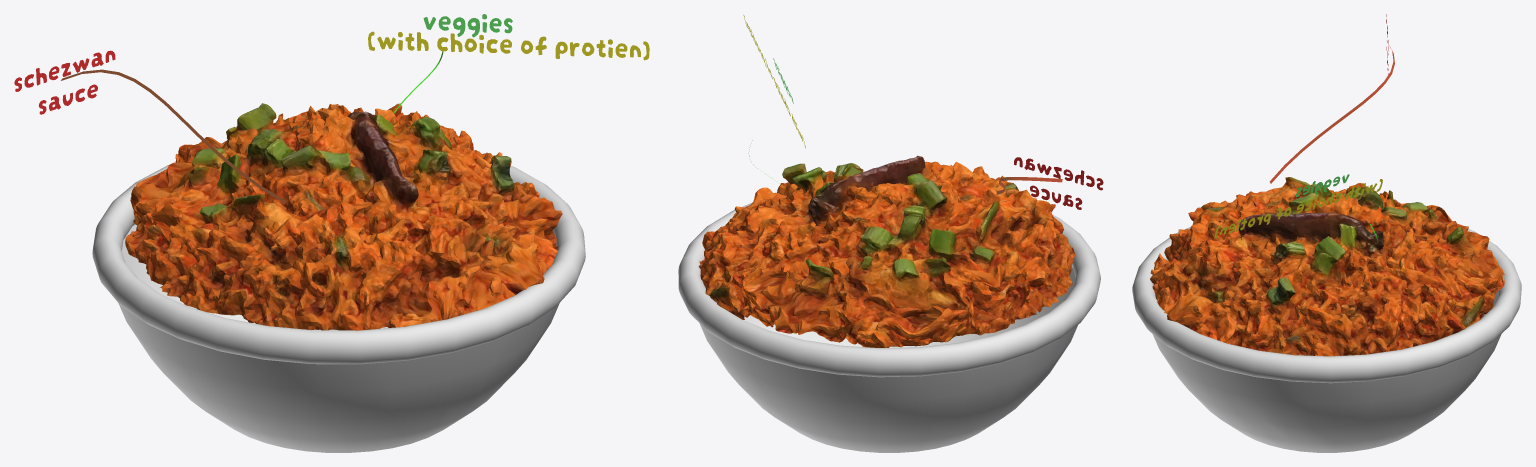
The model's file is chicken_fried_rice.glb.
3 renders of one model, left to right at view 1: azimuth 30°, elevation 25°; view 2: azimuth 150°, elevation 25°; view 3: azimuth 270°, elevation 25°, orthographic. The views are drawn at different scales.
Visible parts, largest first — view 1: Mesh_0, bowl, Text.002, Text, BézierCurve, Text.001; view 2: Mesh_0, bowl, Text; view 3: Mesh_0, bowl, Text.002, BézierCurve.
Boxes of the visible parts, bbox=[...] form: Mesh_0: bbox=[125, 103, 562, 330]; bowl: bbox=[92, 164, 585, 452]; Text.002: bbox=[368, 31, 649, 60]; Text: bbox=[14, 50, 115, 114]; BézierCurve: bbox=[61, 69, 286, 203]; Text.001: bbox=[423, 14, 512, 37]; Mesh_0: bbox=[698, 155, 1075, 347]; bowl: bbox=[678, 203, 1100, 452]; Text: bbox=[1014, 157, 1103, 209]; Mesh_0: bbox=[1150, 177, 1504, 356]; bowl: bbox=[1132, 226, 1521, 452]; Text.002: bbox=[1214, 179, 1382, 238]; BézierCurve: bbox=[1269, 43, 1394, 183].
Bounding box in the file's own units: 0.7459 × 0.5208 × 0.6044.
Materials: 7 (1 with a texture image).
